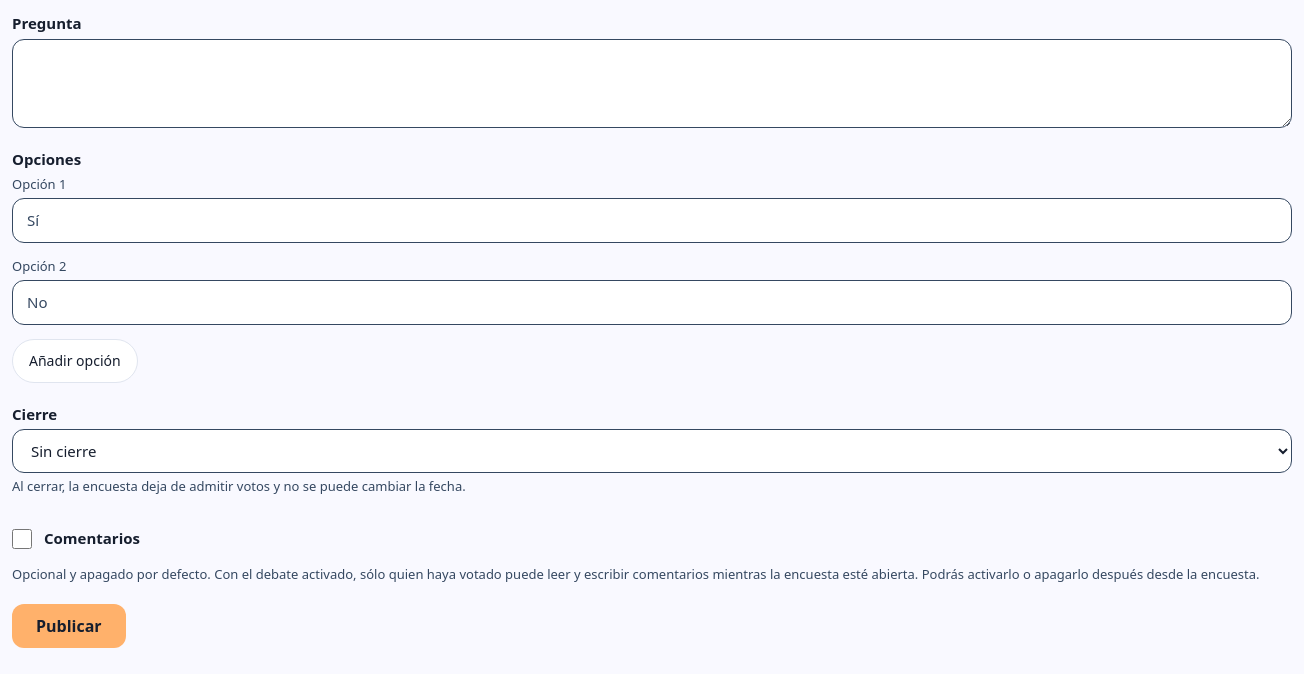
Scenario: PollCreationForm › empieza con pregunta y dos opciones, y permite añadir hasta seis
The image size is (1304, 674).
Expected: the text box labelled "Pregunta" is shown, [12,38,1292,128]
Expected: the number of fields labelled "Opción 1" is 2, [12,198,1292,242]; [12,280,1292,324]
Click the button "Añadir opción".
click(75, 360)  # box [12,338,138,382]
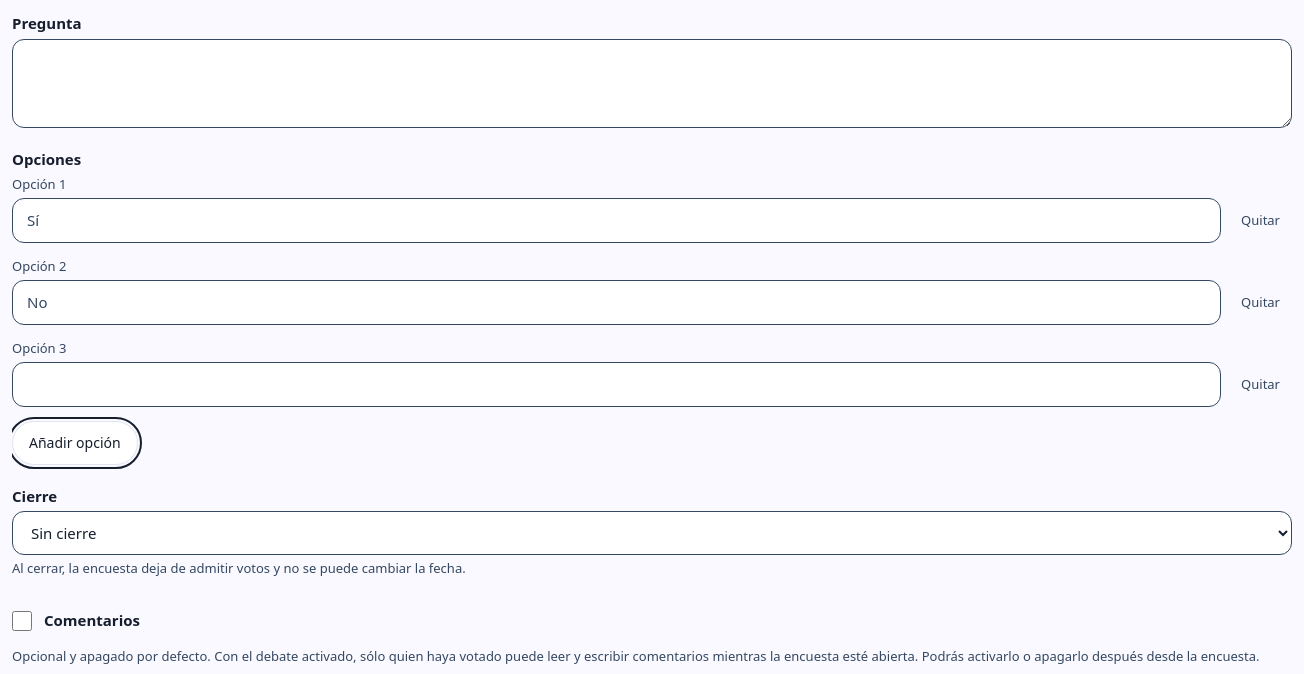
Click the button "Añadir opción".
click(75, 442)  # box [12,420,138,464]
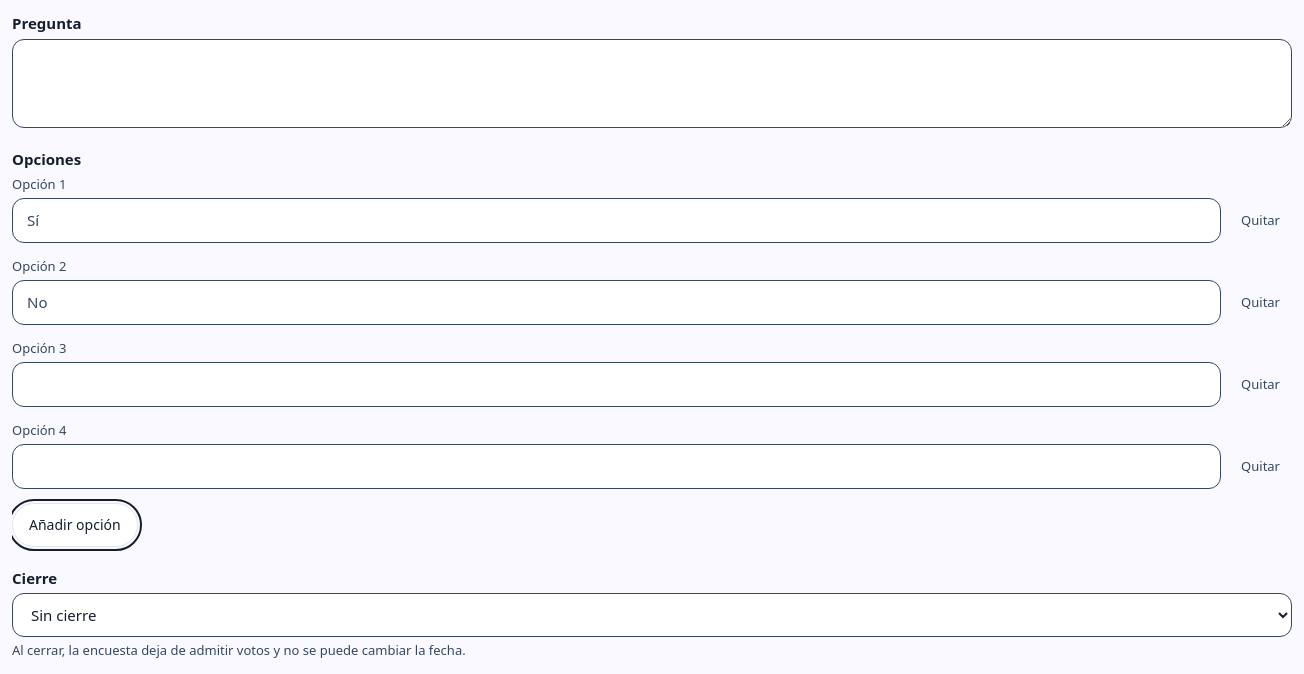
Click the button "Añadir opción".
click(75, 524)  # box [12,502,138,546]
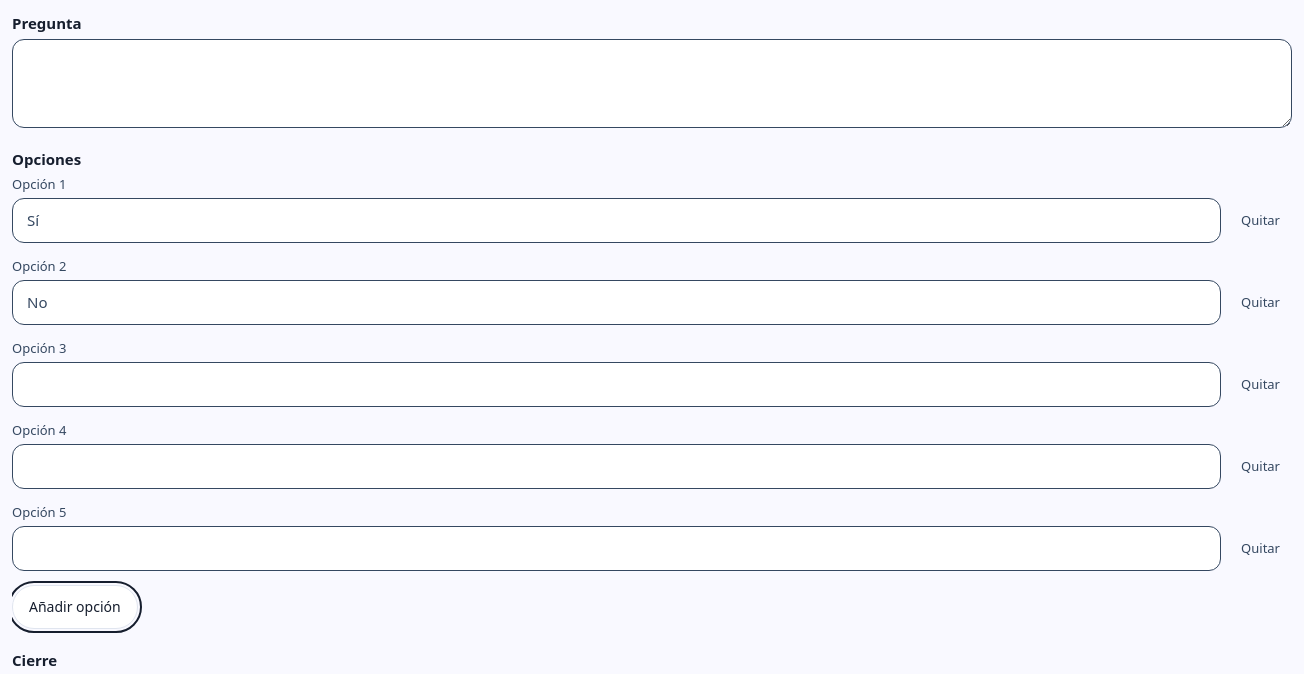
Click the button "Añadir opción".
click(75, 606)  # box [12,584,138,628]
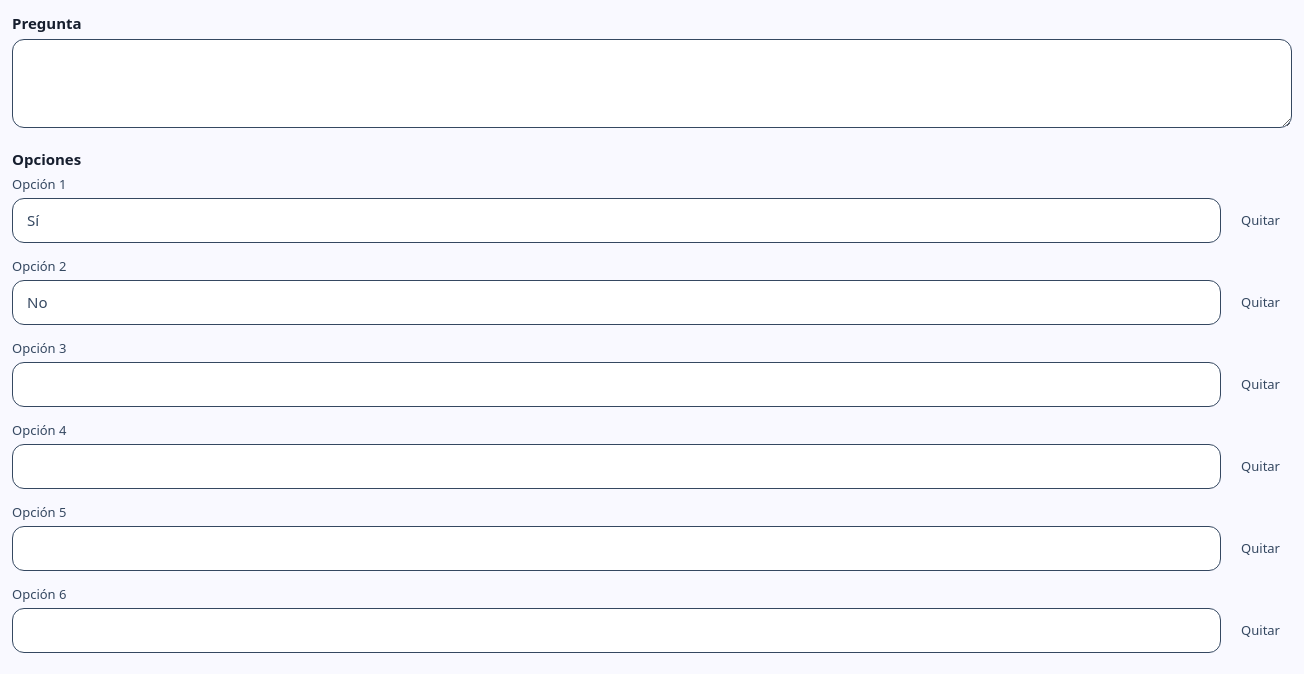
Now the number of fields labelled "Opción 1" is 6, box [12,198,1221,242]; [12,280,1221,324]; [12,362,1221,406]; [12,444,1221,488]; [12,526,1221,570]; [12,608,1221,652]
Now the button "Añadir opción" is gone
Click the button with aria-label "Quitar opción 3".
click(1261, 384)  # box [1229,362,1292,406]
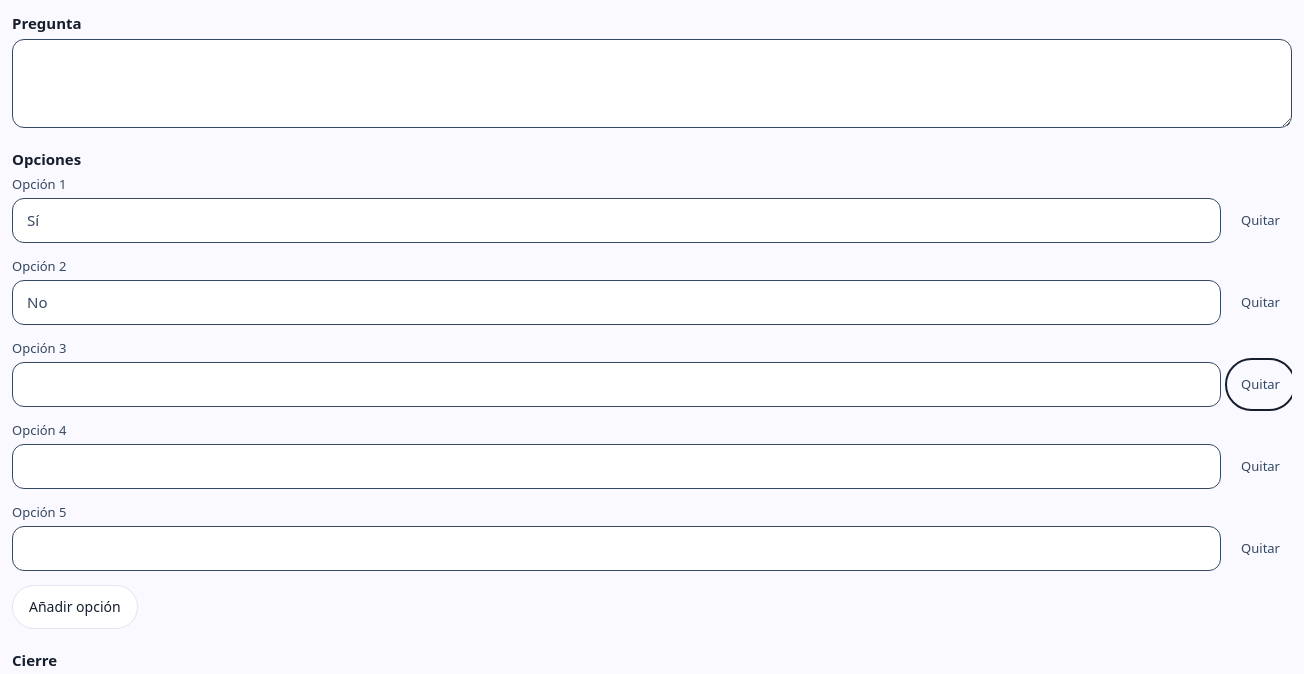
Now the number of fields labelled "Opción 1" is 5, box [12,198,1221,242]; [12,280,1221,324]; [12,362,1221,406]; [12,444,1221,488]; [12,526,1221,570]
